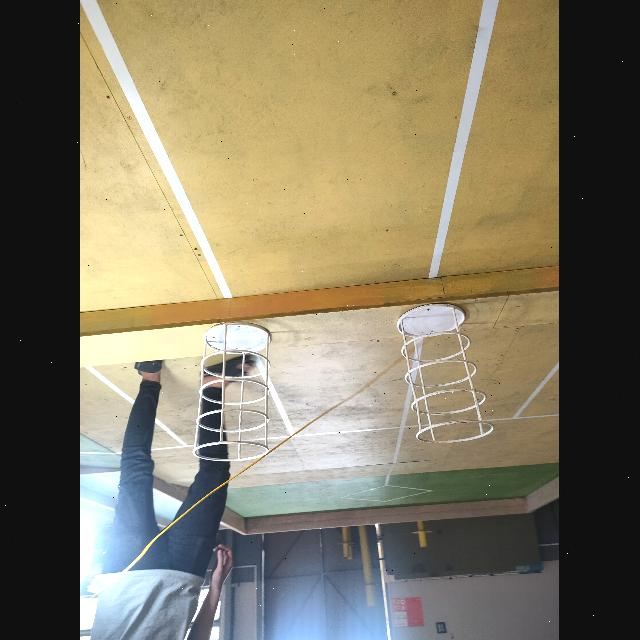S: (396, 302, 496, 444), (191, 323, 273, 463)
